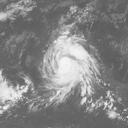cyclone: (40, 35, 97, 91)
